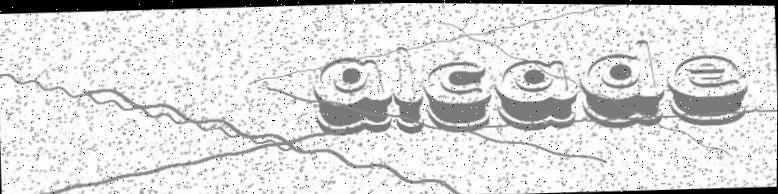a: (313, 55, 395, 135), (496, 57, 580, 130)
c: (424, 60, 493, 132)
d: (580, 38, 666, 129)
e: (667, 52, 749, 127)
l: (392, 46, 425, 133)
